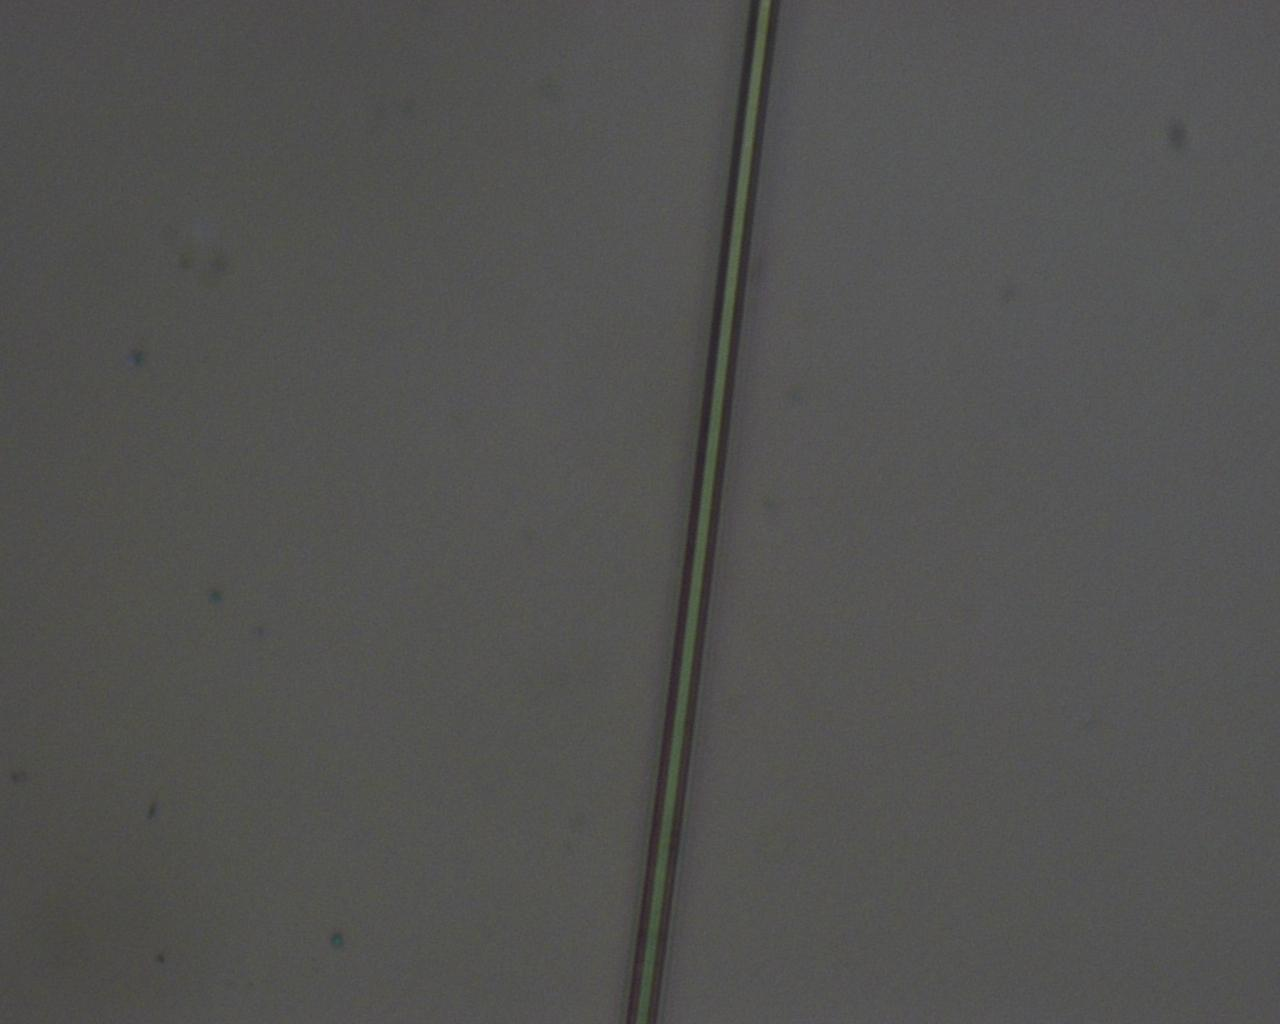fiber: (473, 92, 1280, 622), (0, 59, 473, 532)
